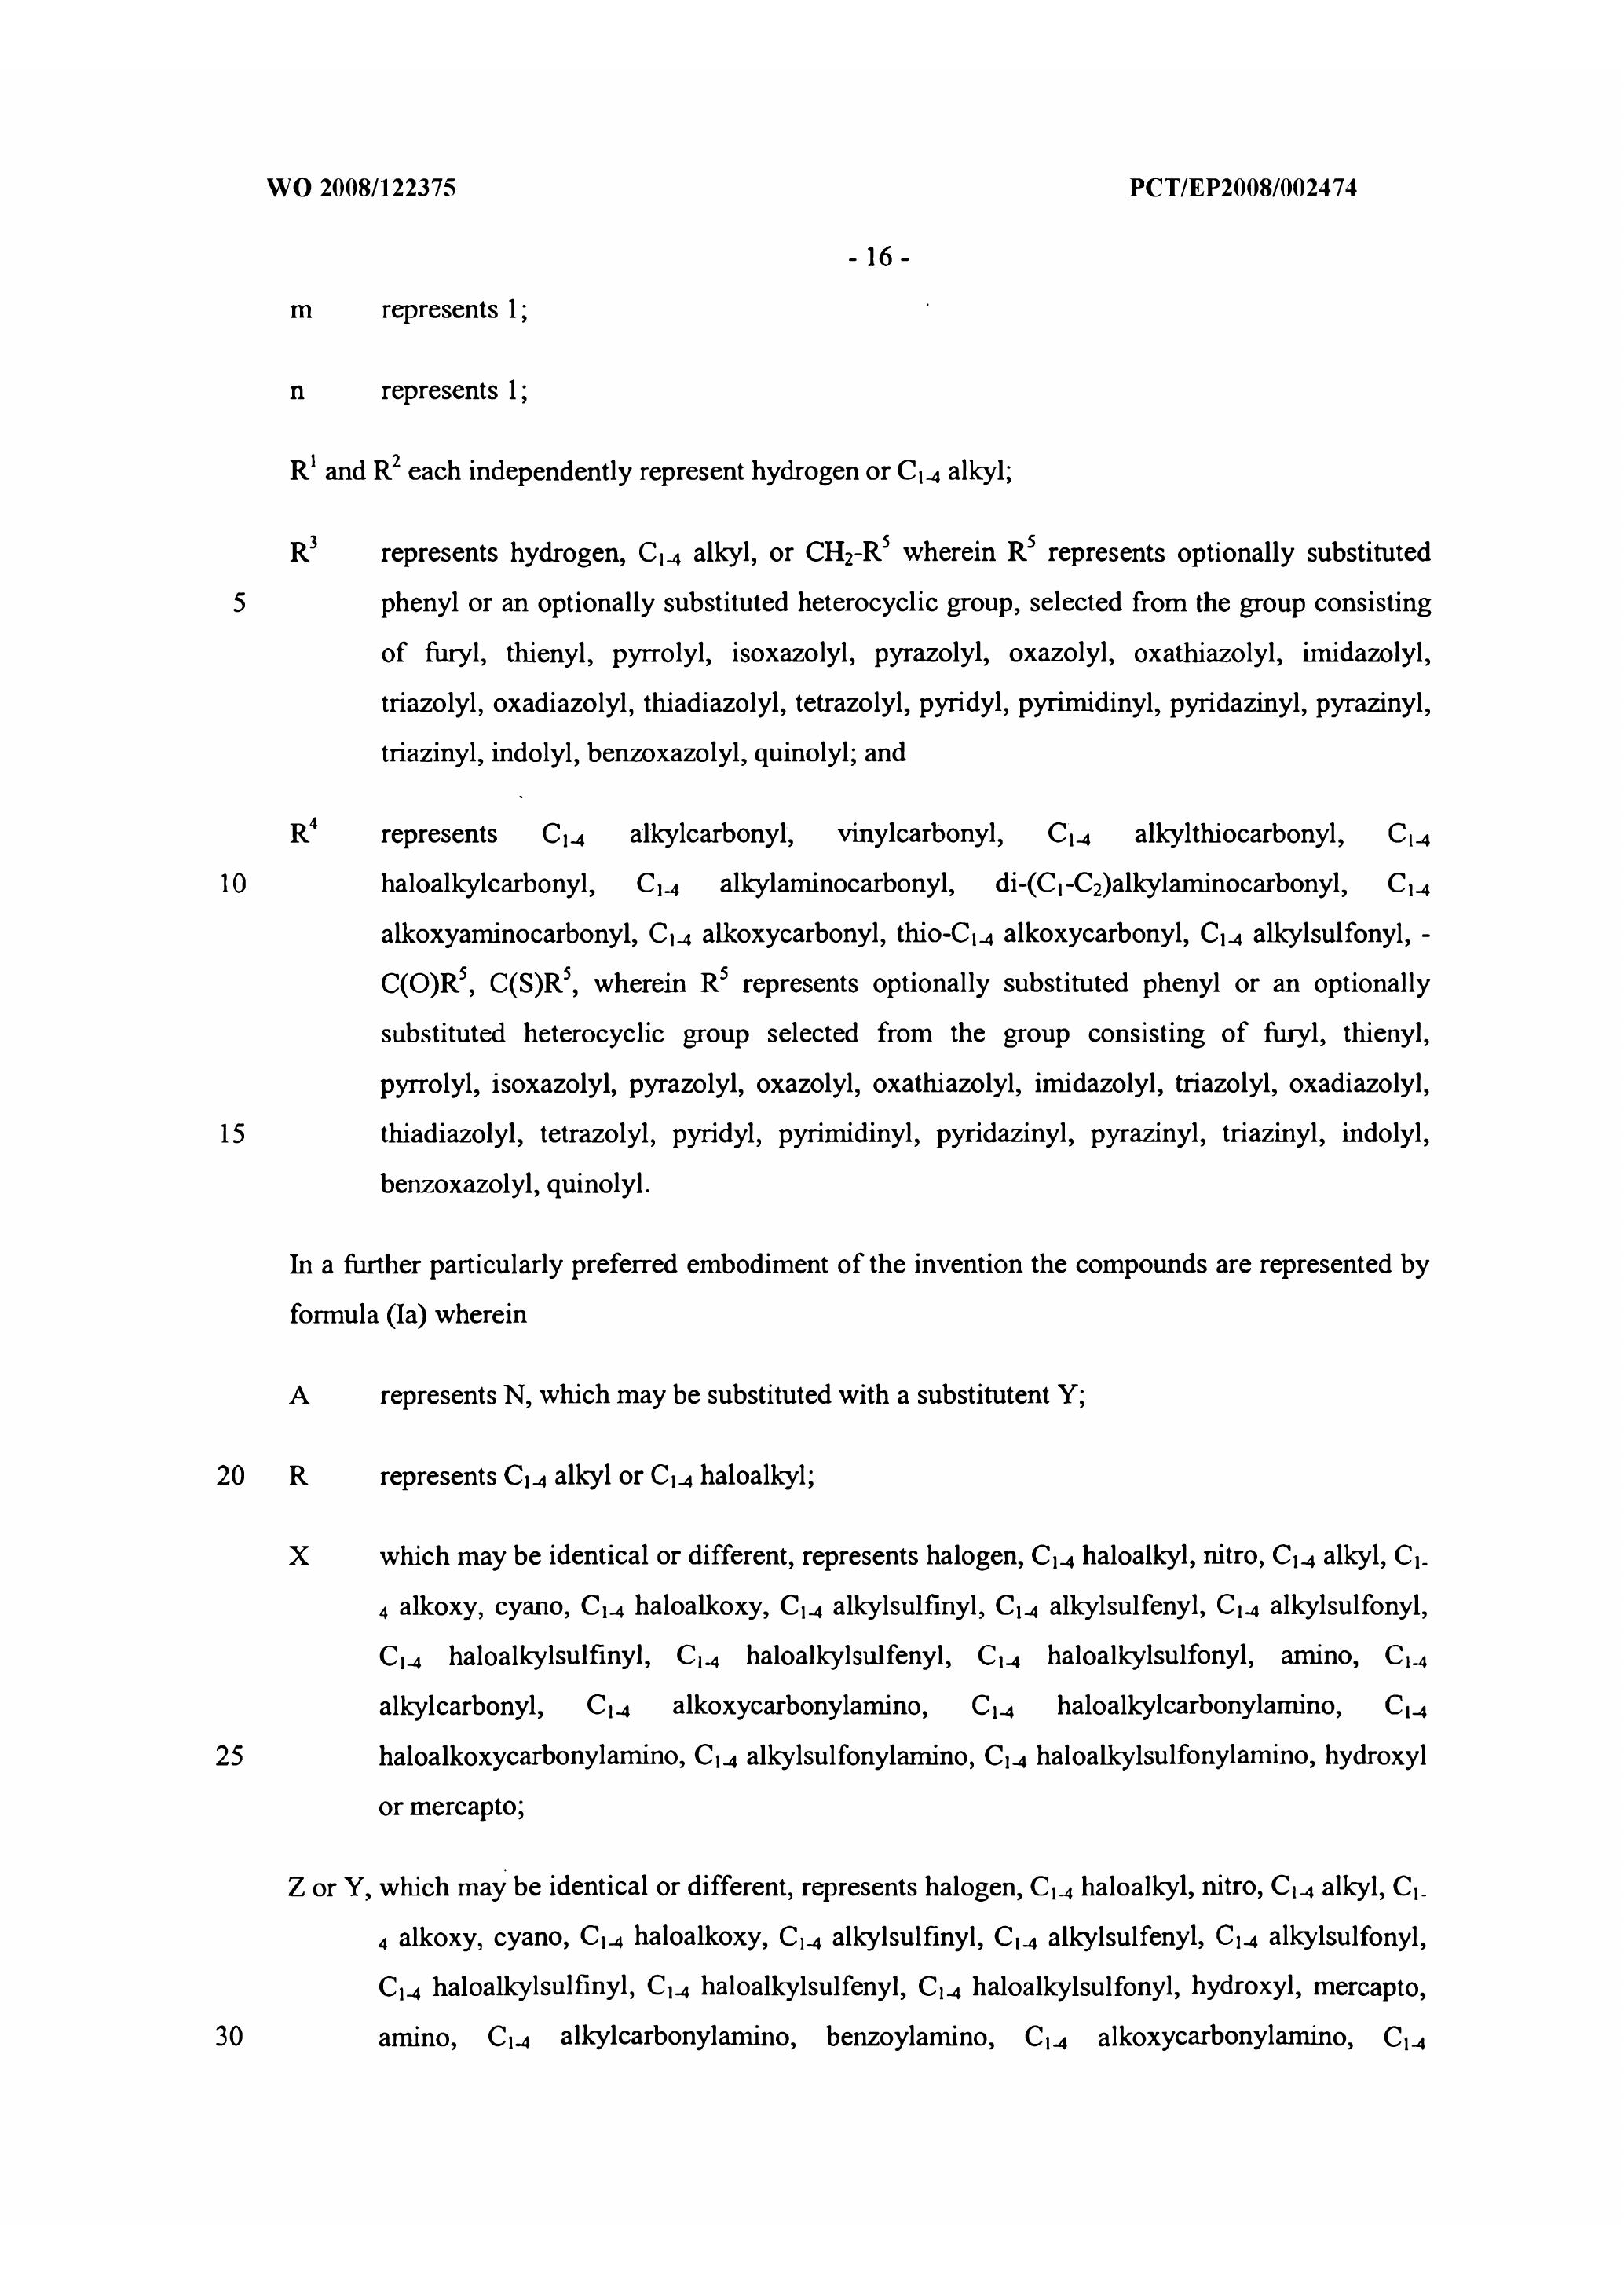substitutes: (281, 802, 1443, 1208)
